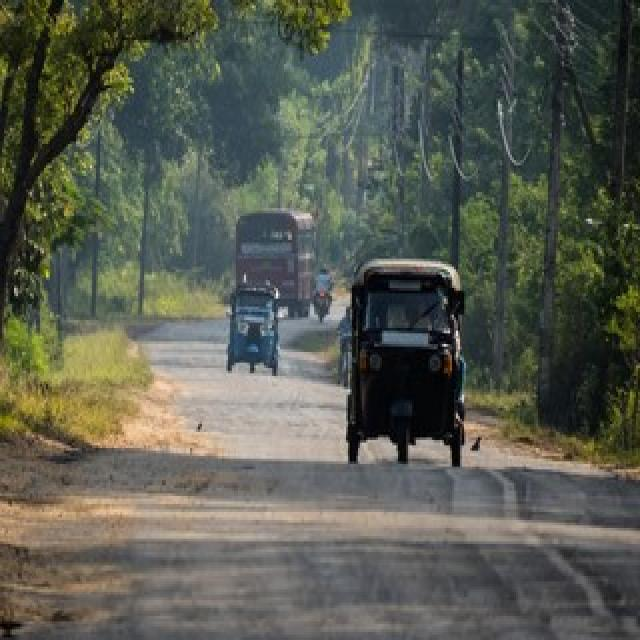bus: (236, 211, 312, 317)
motorcycle: (314, 288, 330, 323)
person: (316, 269, 330, 293)
three wheeler: (346, 259, 462, 467), (226, 285, 276, 376)
